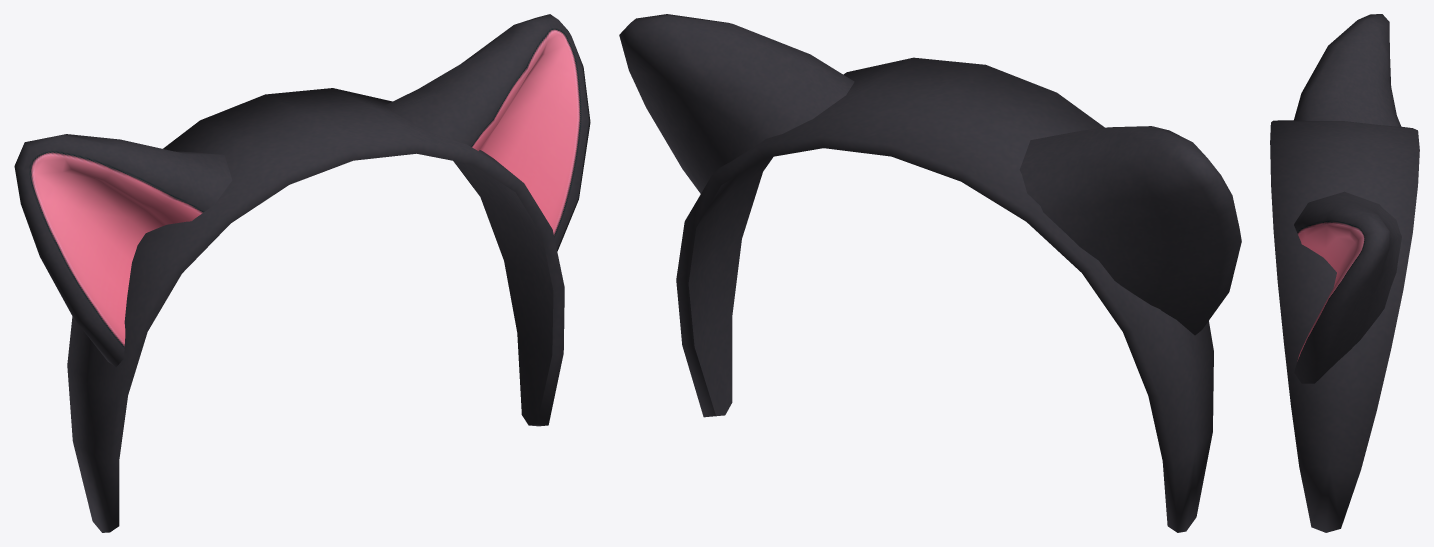
3 renders of one model, left to right at view 1: azimuth 30°, elevation 25°; view 2: azimuth 150°, elevation 25°; view 3: azimuth 270°, elevation 25°, orthographic. The views are drawn at different scales.
Parts seen in each view (by area): view 1: model_11; view 2: model_11; view 3: model_11.
Boxes of the visible parts, x1,y1,x2,y2 form: model_11: (14, 14, 590, 532); model_11: (619, 14, 1241, 532); model_11: (1270, 14, 1419, 532).
Bounding box in the file's own units: 0.9687 × 0.6309 × 0.2633.
1 material, 1 textured.
